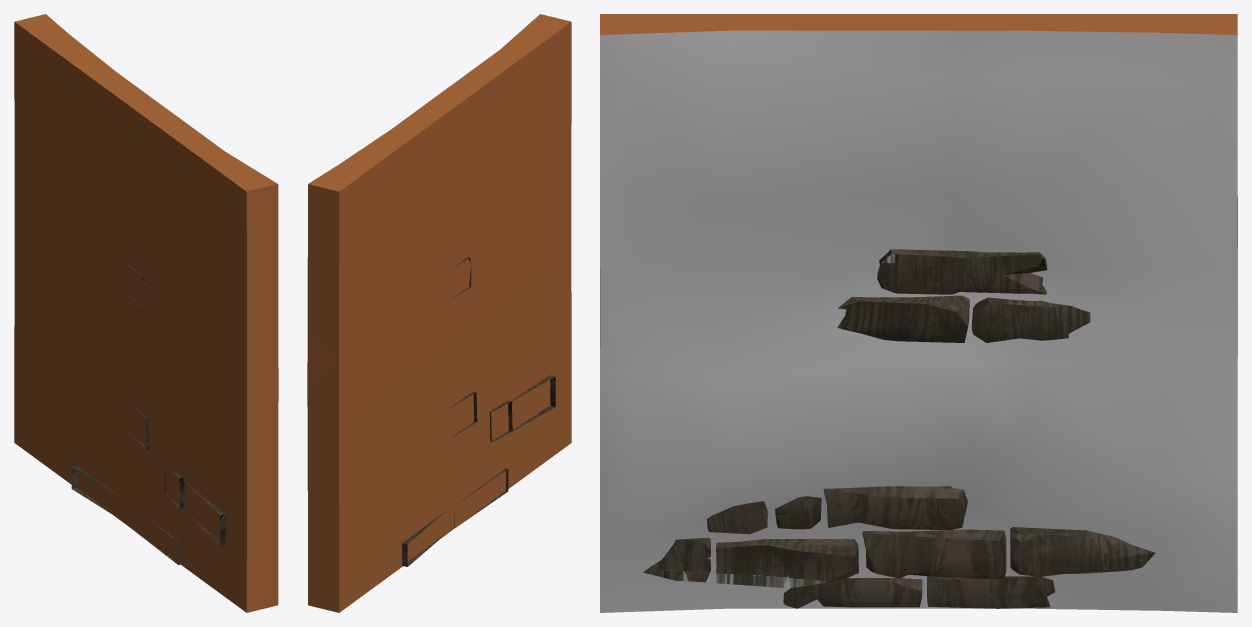
File: Wall_withbrick.fbx
3 renders of one model, left to right at view 1: azimuth 30°, elevation 25°; view 2: azimuth 150°, elevation 25°; view 3: azimuth 270°, elevation 25°, orthographic. The views are drawn at different scales.
Parts seen in each view (by area): view 1: Wall1_low.009, wall1_brick_low.035; view 2: Wall1_low.009, wall1_brick_low.035; view 3: Wall1_low.009, wall1_brick_low.035.
Boxes of the visible parts, x1,y1,x2,y2 form: Wall1_low.009: (14,14,278,612); wall1_brick_low.035: (71,260,225,564); Wall1_low.009: (307,14,571,612); wall1_brick_low.035: (402,257,555,566); Wall1_low.009: (600,14,1237,612); wall1_brick_low.035: (643,249,1155,608).
Bounding box in the file's own units: 23.5 × 200 × 200.
